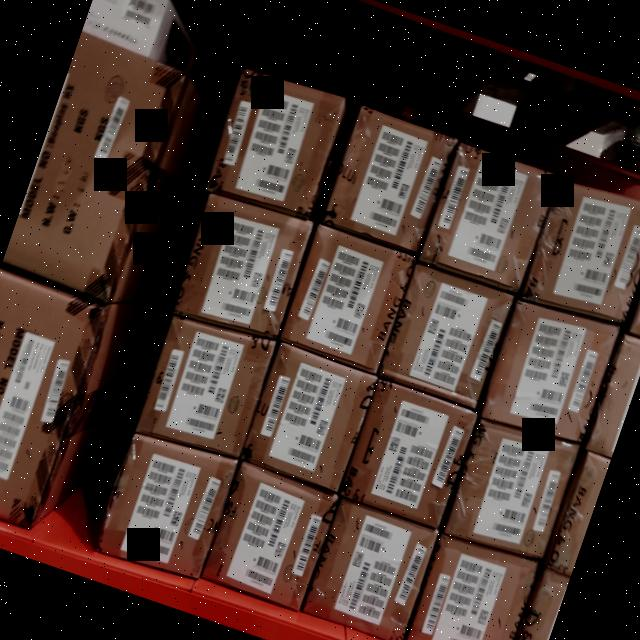box: (207, 70, 344, 224), (341, 380, 476, 527), (136, 319, 272, 462), (420, 146, 554, 291), (242, 346, 375, 491), (175, 196, 312, 336), (480, 303, 616, 444), (204, 464, 336, 609), (98, 436, 234, 576), (282, 228, 414, 372), (380, 264, 512, 404), (303, 502, 436, 640), (324, 110, 454, 250), (446, 422, 576, 556), (523, 182, 640, 320), (406, 533, 537, 640)
